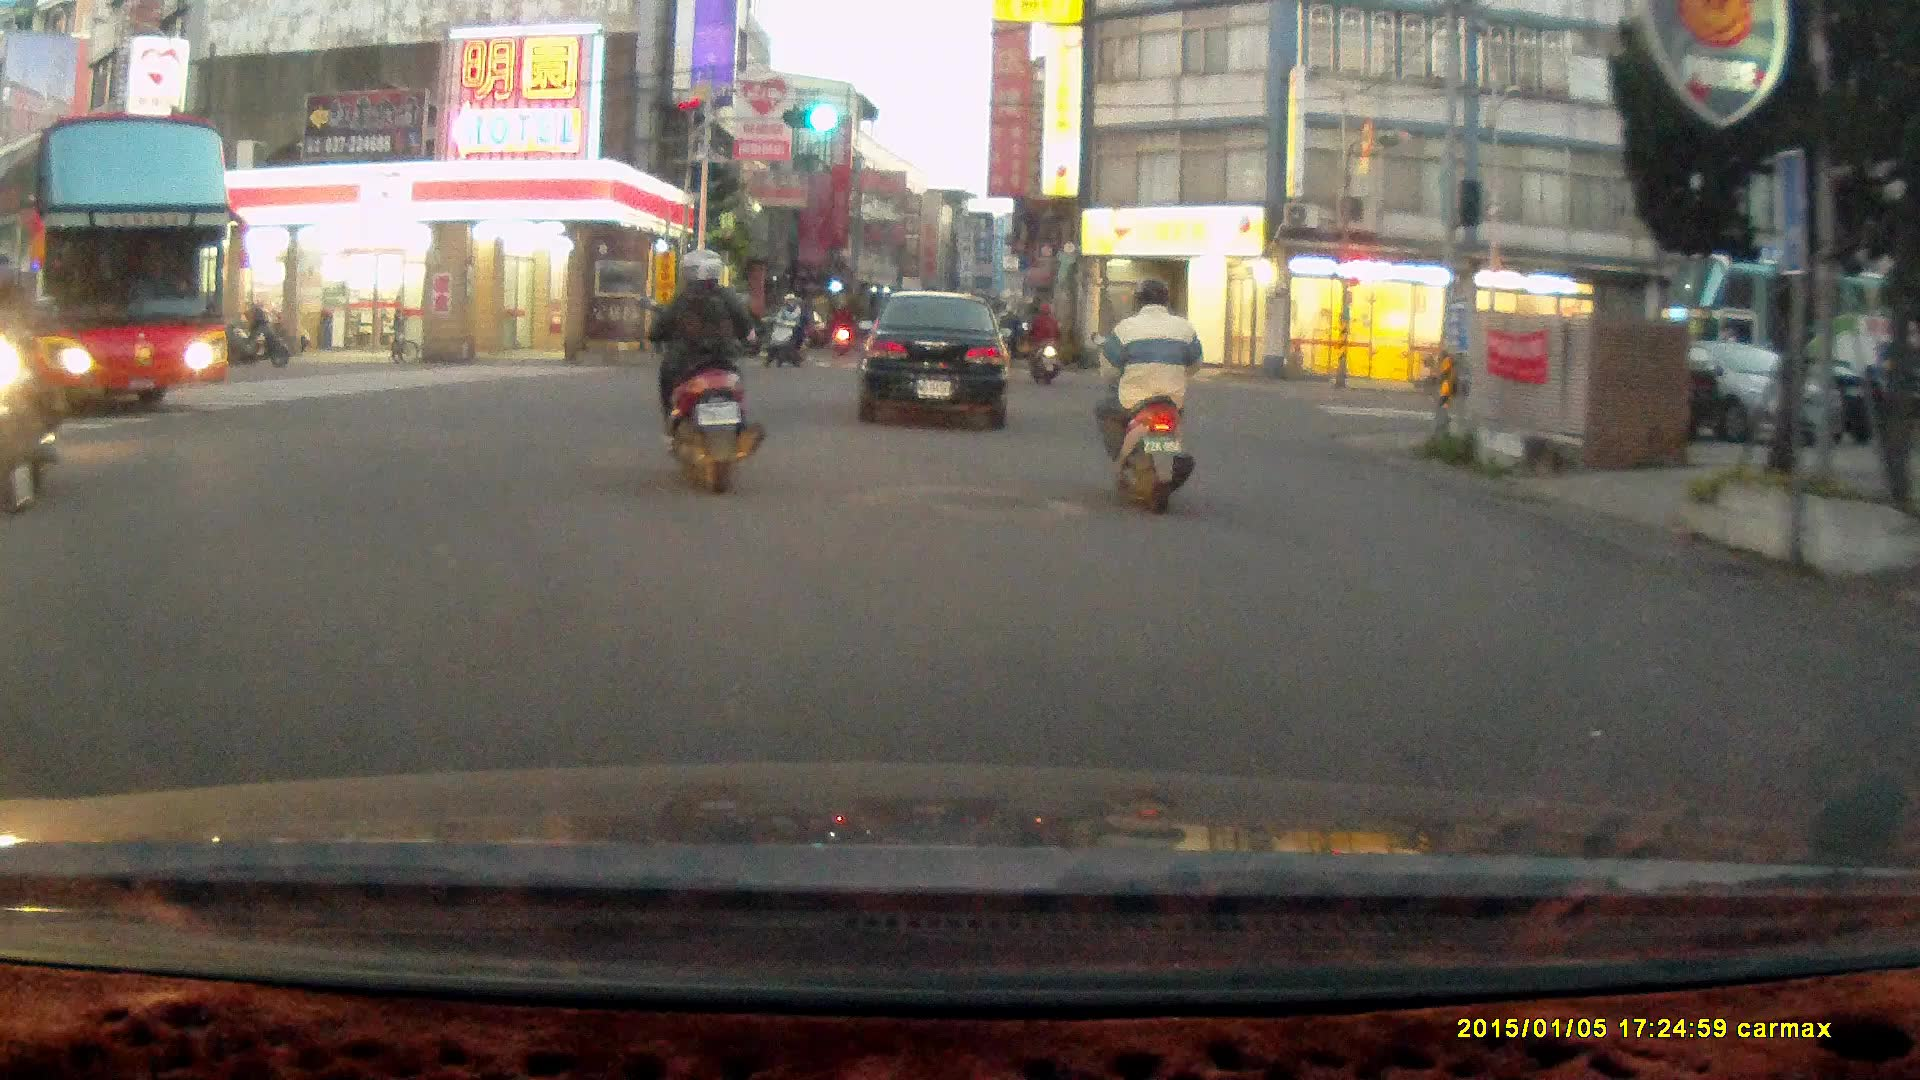rider: (641, 248, 768, 493), (1090, 276, 1202, 516), (0, 245, 59, 515), (1024, 297, 1063, 388), (764, 289, 804, 368)
vehicle: (1, 116, 237, 419), (1585, 338, 1849, 450), (861, 289, 1010, 430)
